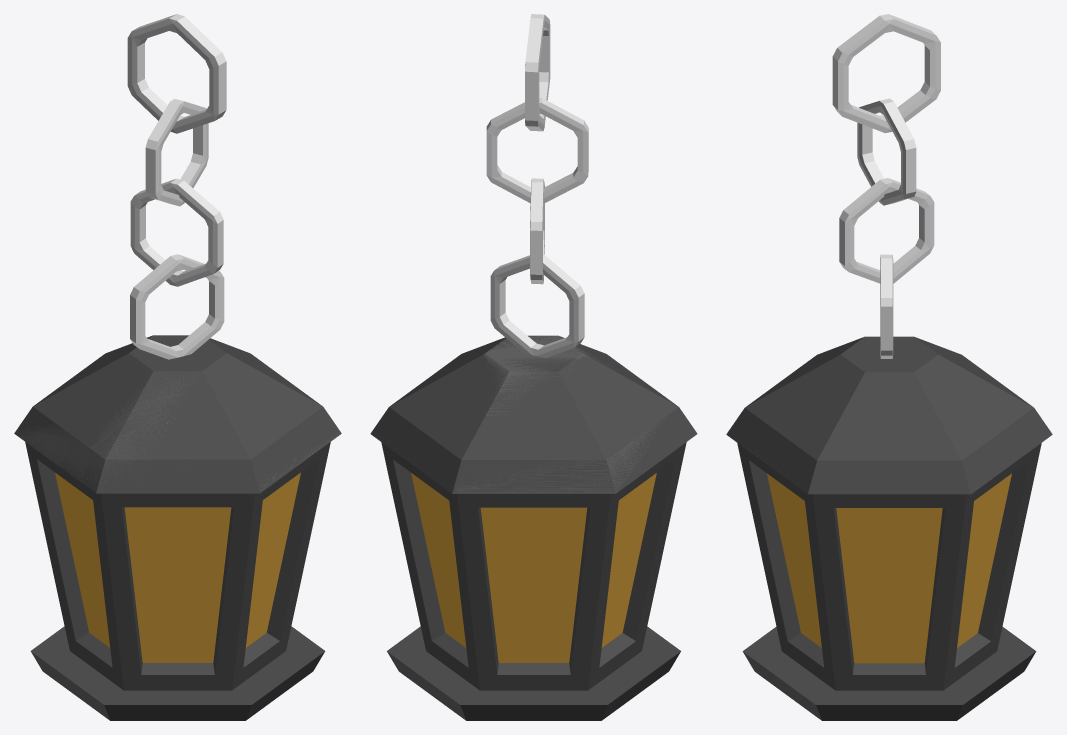
The model's file is Lantern.fbx.
3 views of the same model, side by side, from view 1: azimuth 30°, elevation 25°; view 2: azimuth 150°, elevation 25°; view 3: azimuth 270°, elevation 25° (orthographic).
Visible parts, largest first — view 1: LanternBaked, Glasses.001, Chains, Cape.001; view 2: LanternBaked, Glasses.001, Chains, Cape.001; view 3: LanternBaked, Glasses.001, Chains.
Part boxes in pixels (left/top/right/bottom): LanternBaked: left=14, top=335, right=341, bottom=720; Glasses.001: left=55, top=472, right=300, bottom=662; Chains: left=127, top=14, right=226, bottom=359; Cape.001: left=15, top=366, right=340, bottom=491; LanternBaked: left=370, top=335, right=697, bottom=720; Glasses.001: left=411, top=473, right=656, bottom=662; Chains: left=486, top=14, right=588, bottom=357; Cape.001: left=372, top=335, right=664, bottom=493; LanternBaked: left=726, top=336, right=1052, bottom=720; Glasses.001: left=767, top=473, right=1011, bottom=663; Chains: left=832, top=14, right=940, bottom=358.
Bounding box in the file's own units: 95.85 × 244 × 111.
